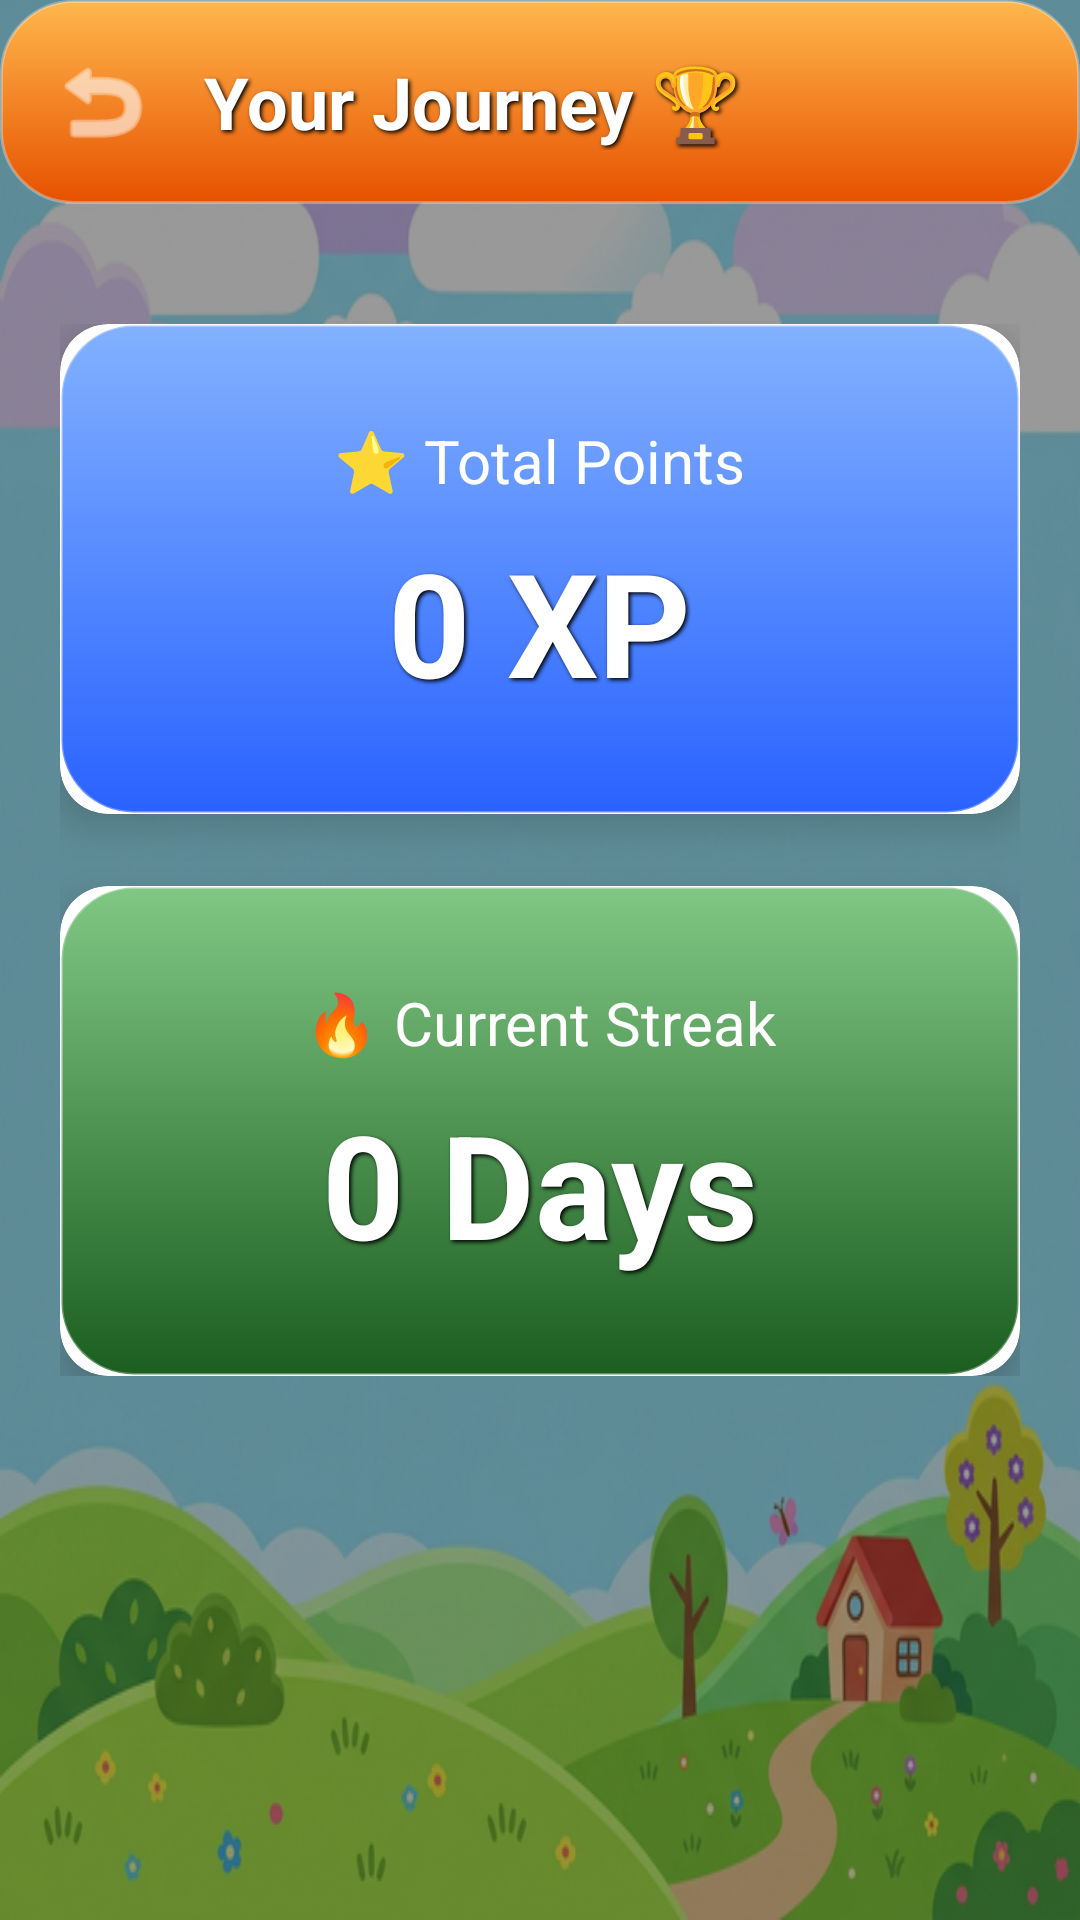

Screen size 1080x1920. Icon name, then its center in pixels as point (x, y):
revert: point (102, 102)
